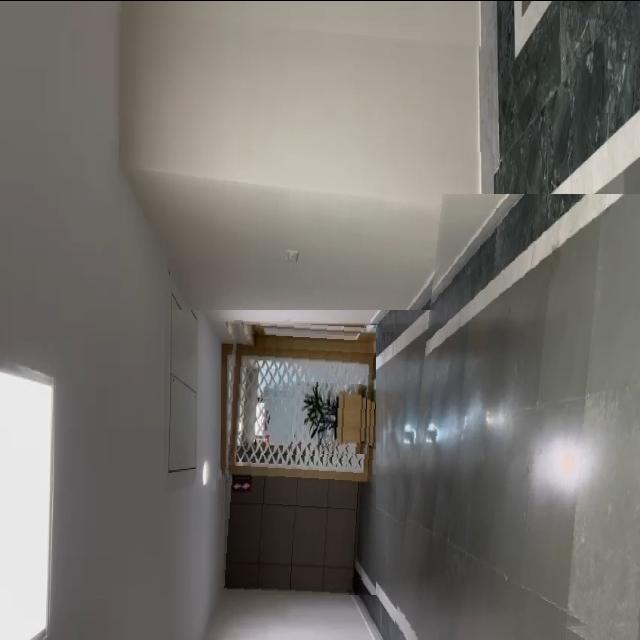door: (218, 319, 376, 594)
floor: (393, 193, 640, 640)
furniture: (290, 380, 367, 453)
wall: (15, 0, 495, 309)
